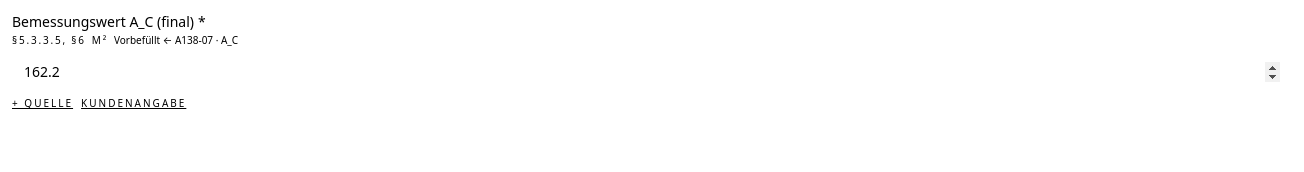
twin pre-fill badge › hides the badge once the engineer edits the field (dirty)
Replace the text in the number field with "160" at point(652, 72), box [12,54,1292,90]
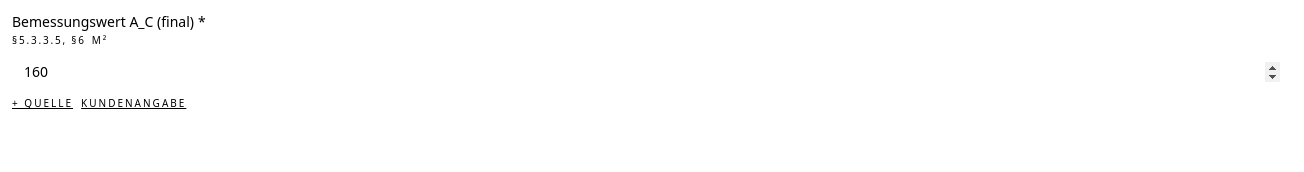
Check: the link with test id "twin-prefill-badge" is gone
